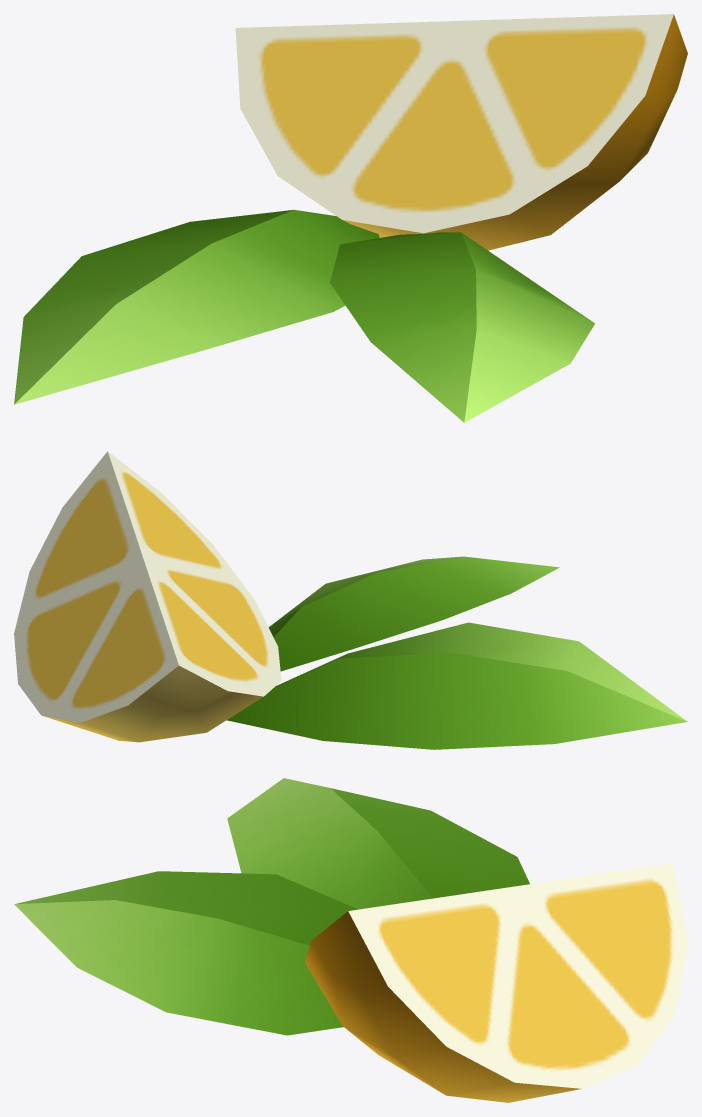
The model's file is m_TarteAuCitron01_Deco.fbx.
3 renders of one model, top to bottom at view 1: azimuth 30°, elevation 25°; view 2: azimuth 150°, elevation 25°; view 3: azimuth 270°, elevation 25°, orthographic. The views are drawn at different scales.
Parts seen in each view (by area): view 1: m_TarteAuCitron01_Deco; view 2: m_TarteAuCitron01_Deco; view 3: m_TarteAuCitron01_Deco.
Part boxes in pixels (left/top/right/bottom): m_TarteAuCitron01_Deco: left=14, top=14, right=687, bottom=422; m_TarteAuCitron01_Deco: left=14, top=451, right=687, bottom=749; m_TarteAuCitron01_Deco: left=14, top=778, right=687, bottom=1102.
Bounding box in the file's own units: 9.39 × 2.97 × 7.96.
